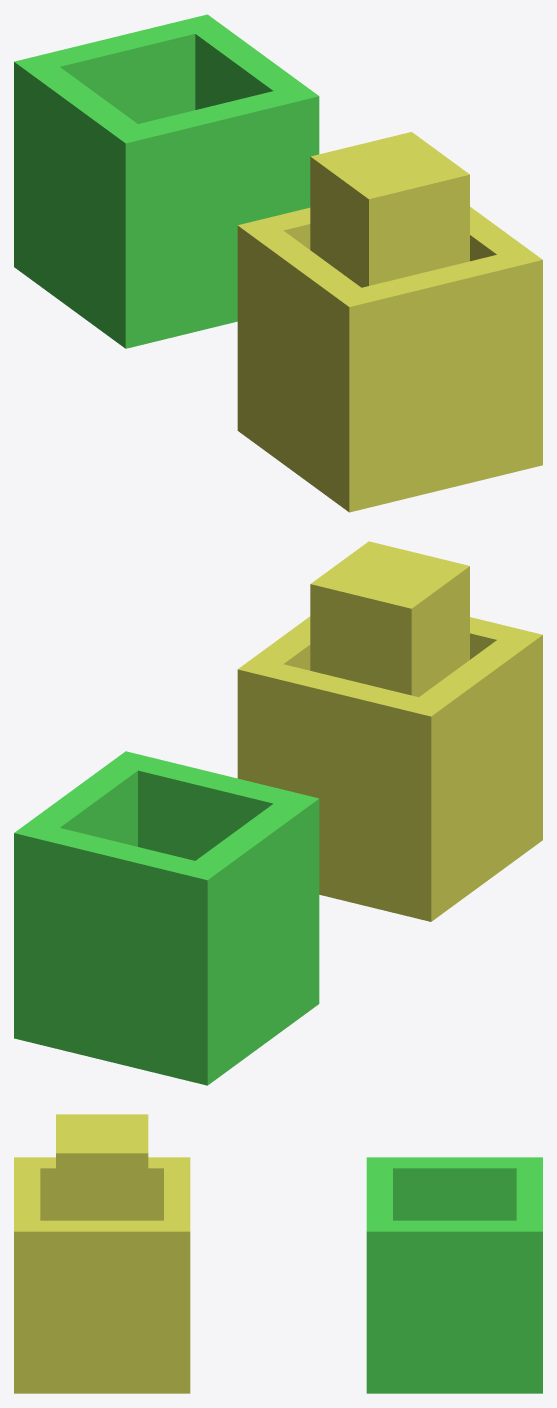
File: fisi.glb
3 renders of one model, top to bottom at view 1: azimuth 30°, elevation 25°; view 2: azimuth 150°, elevation 25°; view 3: azimuth 270°, elevation 25°, orthographic. The views are drawn at different scales.
Parts seen in each view (by area): view 1: Plane.001, Plane; view 2: Plane, Plane.001; view 3: Plane.001, Plane.
Part boxes in pixels (left/top/right/bottom): Plane.001: left=237, top=132, right=542, bottom=512; Plane: left=14, top=14, right=319, bottom=348; Plane: left=14, top=751, right=319, bottom=1085; Plane.001: left=237, top=541, right=542, bottom=921; Plane.001: left=14, top=1114, right=190, bottom=1393; Plane: left=366, top=1157, right=542, bottom=1393.
Size of the model in its own units: 2 by 2.79 by 6.
